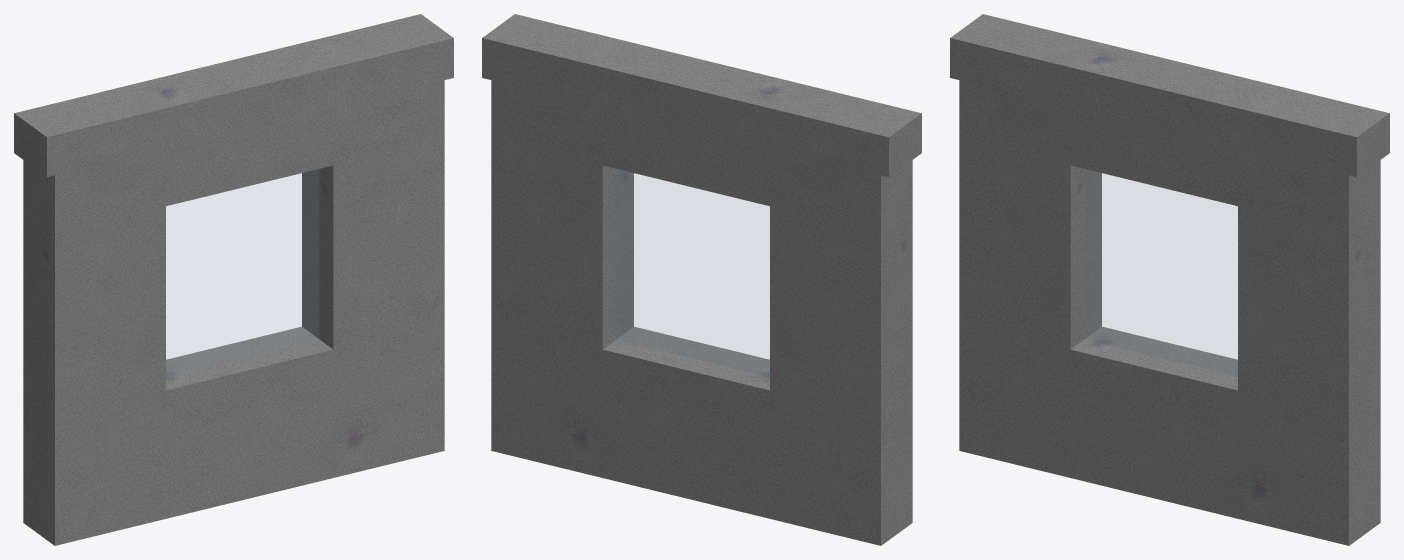
File: AshSquareWIndowedWall.002.glb
3 views of the same model, side by side, from view 1: azimuth 30°, elevation 25°; view 2: azimuth 150°, elevation 25°; view 3: azimuth 330°, elevation 25° (orthographic).
Parts seen in each view (by area): view 1: AshSquareWIndowedWall.002; view 2: AshSquareWIndowedWall.002; view 3: AshSquareWIndowedWall.002.
Part boxes in pixels (box(x1,y1,x2,y2)): AshSquareWIndowedWall.002: box(14, 14, 453, 545); AshSquareWIndowedWall.002: box(482, 14, 921, 545); AshSquareWIndowedWall.002: box(950, 14, 1389, 545).
Size of what is drawn, in the model's own units: 3.03 by 2.93 by 0.4241.
Materials: 2 (2 with a texture image).
